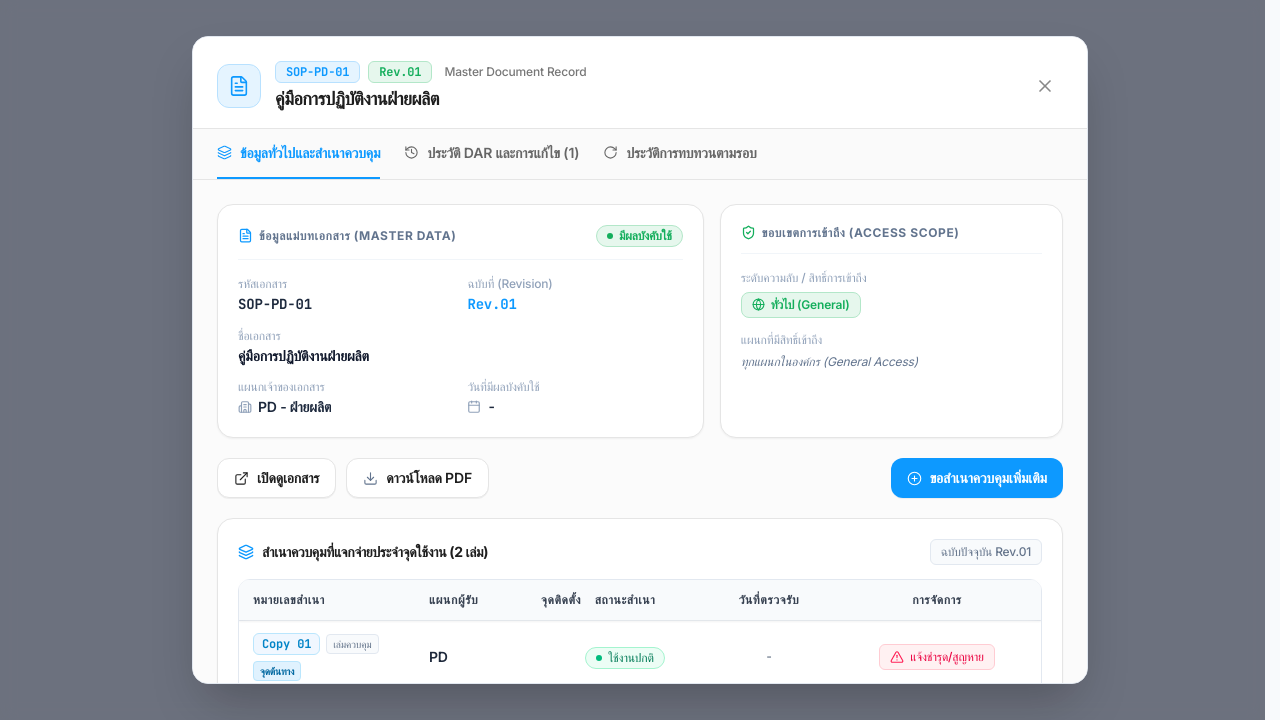
Test: Controlled Copy Modern Contextual Action Suite (Direct Action Layout) › 4. Clicking 'แจ้งชำรุด/สูญหาย' directly opens replacement modal
The width and height of the screenshot is (1280, 720).
Click on Copy 01 damaged button
Click the button "แจ้งชำรุด/สูญหาย" at (937,657), box [879, 644, 995, 670]
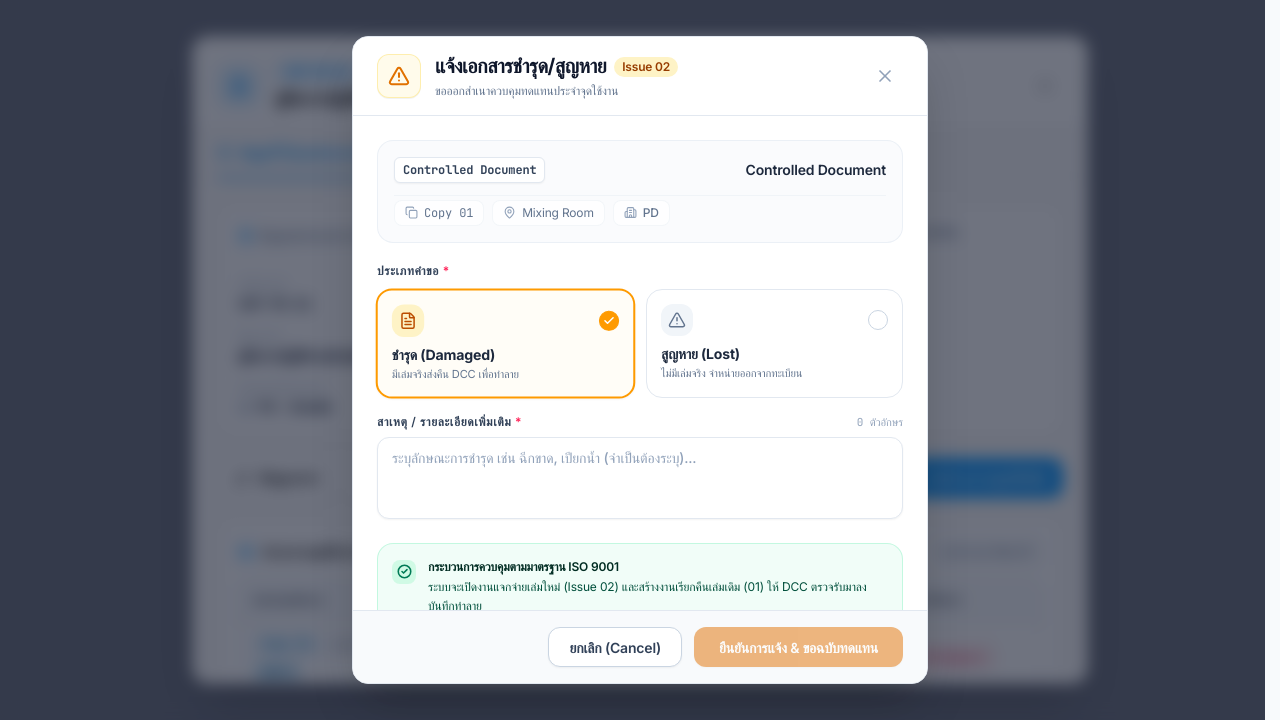
Result: the heading "แจ้งเอกสารชำรุด/สูญหาย" is shown at [435, 53, 606, 80]
